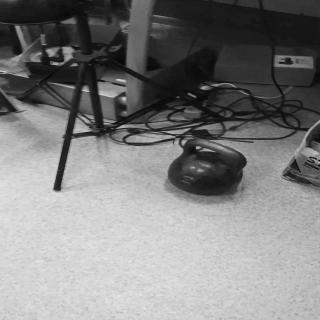kettlebell: (166, 138, 251, 198)
